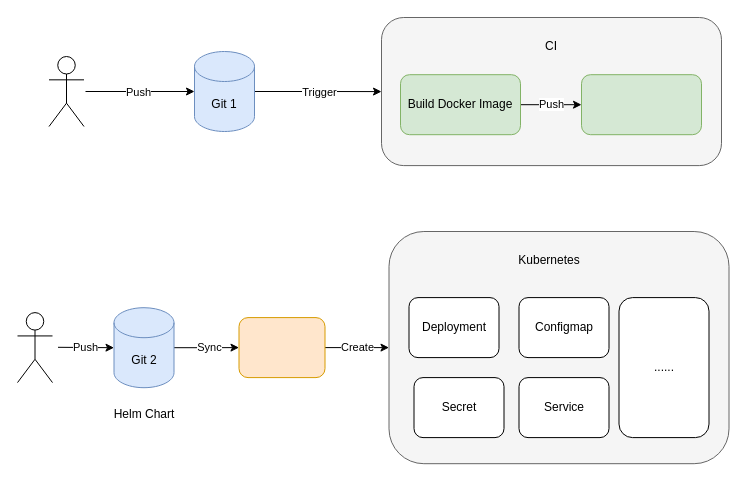
The diagram is 747 pixels wide and 482 high, and some of its shapes have lost their labels. Here are the shapes that lost their labels. From the top down, the centre of each, then its label:
the point at 66,91: Dev
the point at 641,104: Docker Registry
the point at 34,347: SRE
the point at 281,347: ArgoCD
